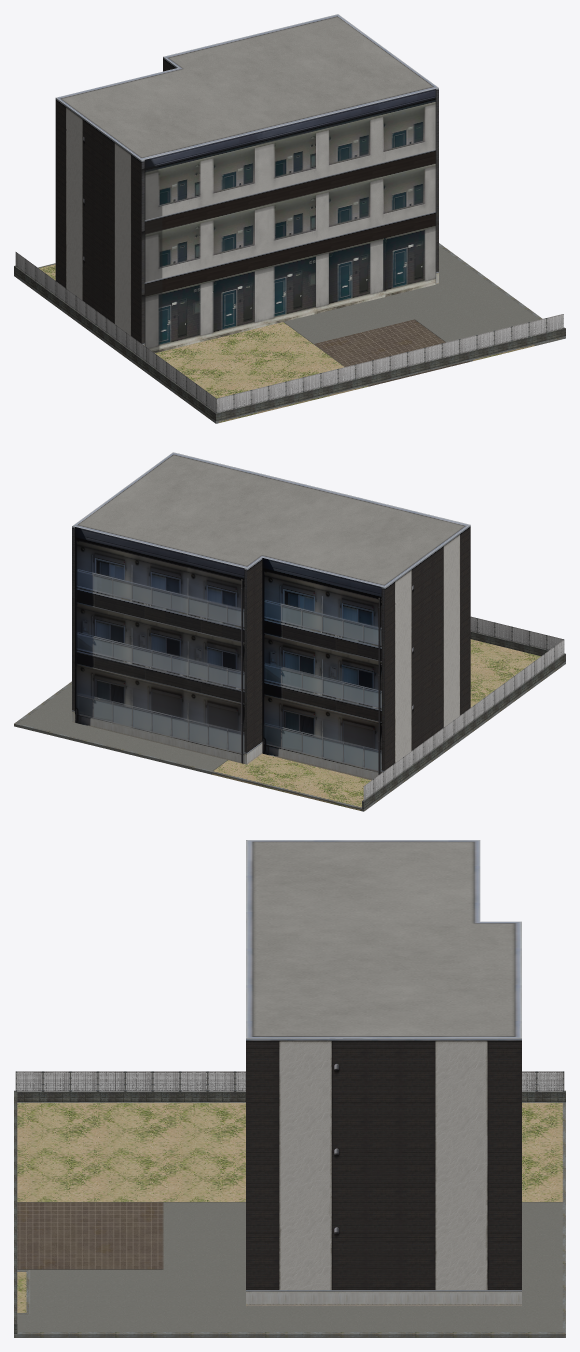
File: Apartment_darkgray.fbx
The picture shows the model from 3 angles, top to bottom: view 1: azimuth 30°, elevation 25°; view 2: azimuth 150°, elevation 25°; view 3: azimuth 270°, elevation 25°; orthographic projection. The views are drawn at different scales.
Visible parts, largest first — view 1: 100_Apartment_darkgray, 000_Site_Apartment_darkgray, 200_Fence_Apartment_darkgray; view 2: 100_Apartment_darkgray, 000_Site_Apartment_darkgray, 200_Fence_Apartment_darkgray; view 3: 100_Apartment_darkgray, 000_Site_Apartment_darkgray, 200_Fence_Apartment_darkgray.
Part boxes in pixels (bbox=[...]): 100_Apartment_darkgray: bbox=[55, 14, 438, 352]; 000_Site_Apartment_darkgray: bbox=[14, 243, 565, 423]; 200_Fence_Apartment_darkgray: bbox=[14, 252, 565, 420]; 100_Apartment_darkgray: bbox=[72, 452, 470, 780]; 000_Site_Apartment_darkgray: bbox=[14, 639, 565, 811]; 200_Fence_Apartment_darkgray: bbox=[362, 616, 565, 808]; 100_Apartment_darkgray: bbox=[246, 840, 521, 1305]; 000_Site_Apartment_darkgray: bbox=[14, 1102, 565, 1337]; 200_Fence_Apartment_darkgray: bbox=[14, 1071, 565, 1333].
Bounding box in the file's own units: 20 × 10.85 × 20.
